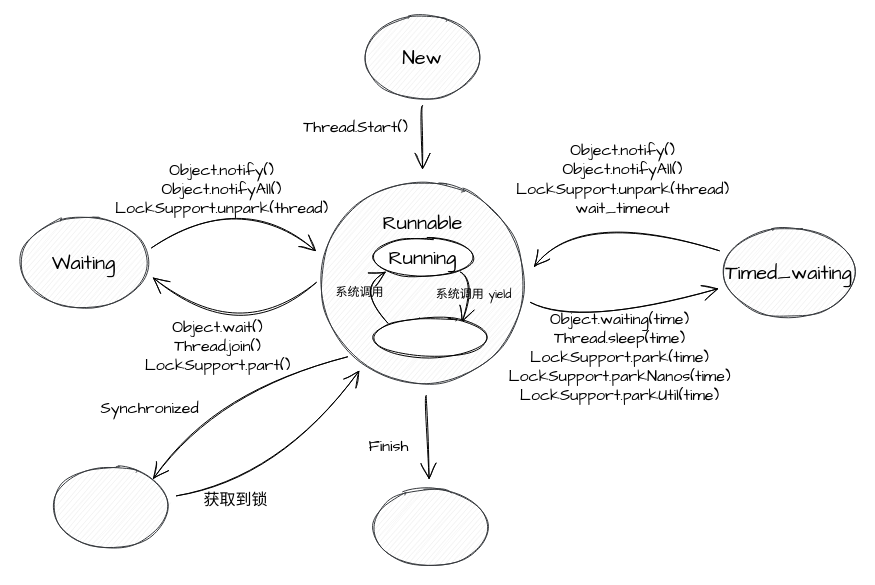
Image size: 875x585. Some labels were removed from this diagram. The shapes that lost their labels are listed below. From the top down, each one's centre as x and y in pixels, then its label:
At pixel 430 337: "Ready".
At pixel 110 507: "Block".
At pixel 430 527: "Terminated".
